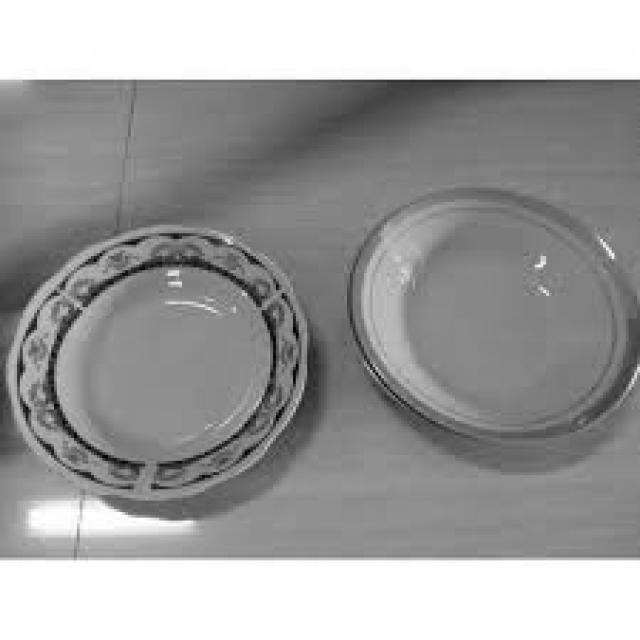dish: (319, 150, 640, 450)
